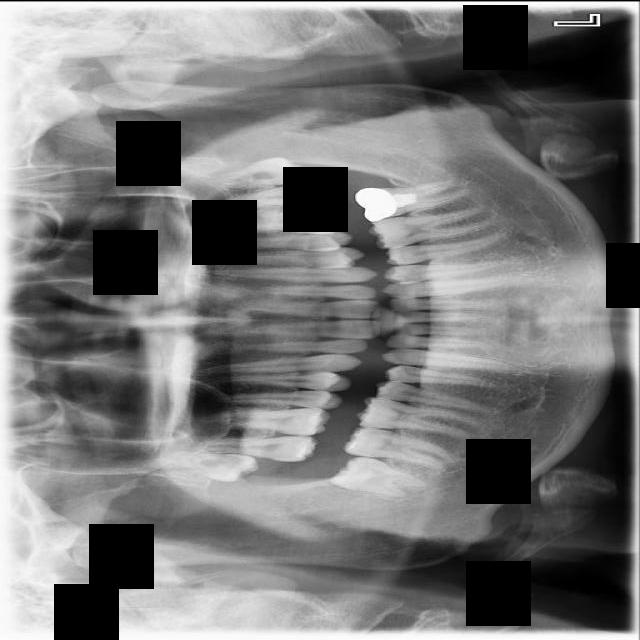3M ESPE Implant: (154, 448, 260, 484)
52: (353, 175, 403, 226)
73: (378, 167, 472, 218), (610, 11, 624, 21)
BioHorizons Implant: (213, 181, 338, 208)
BioLife Implant: (195, 154, 311, 193)
Blue Sky Bio Implant: (353, 174, 473, 223)
Caries: (184, 434, 320, 466)
Implant: (341, 421, 459, 474)
Keystone Dental Implant: (329, 449, 429, 504)
